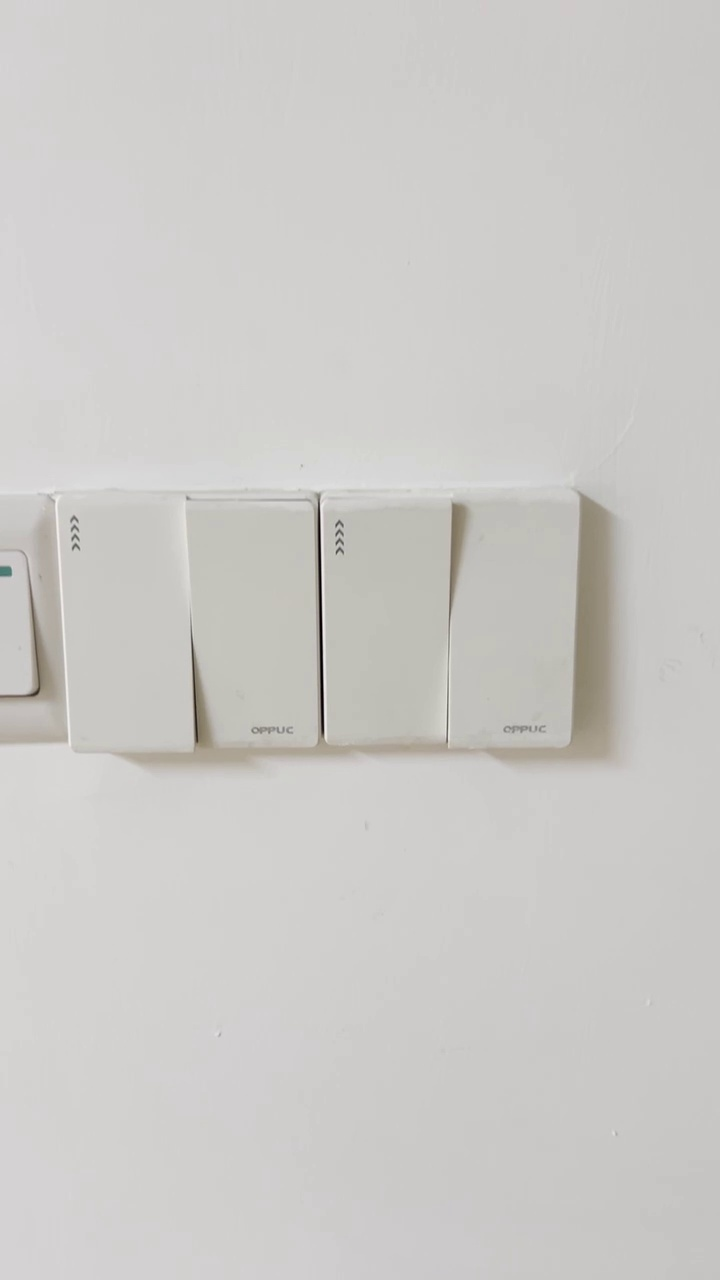button1: (53, 497, 191, 749), (186, 502, 317, 750), (455, 502, 574, 749), (324, 501, 444, 743)
